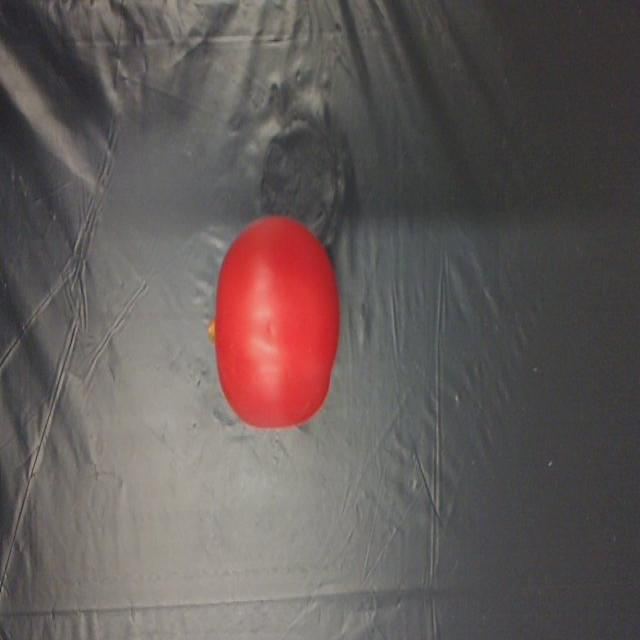kirmizi: (195, 183, 348, 455)
